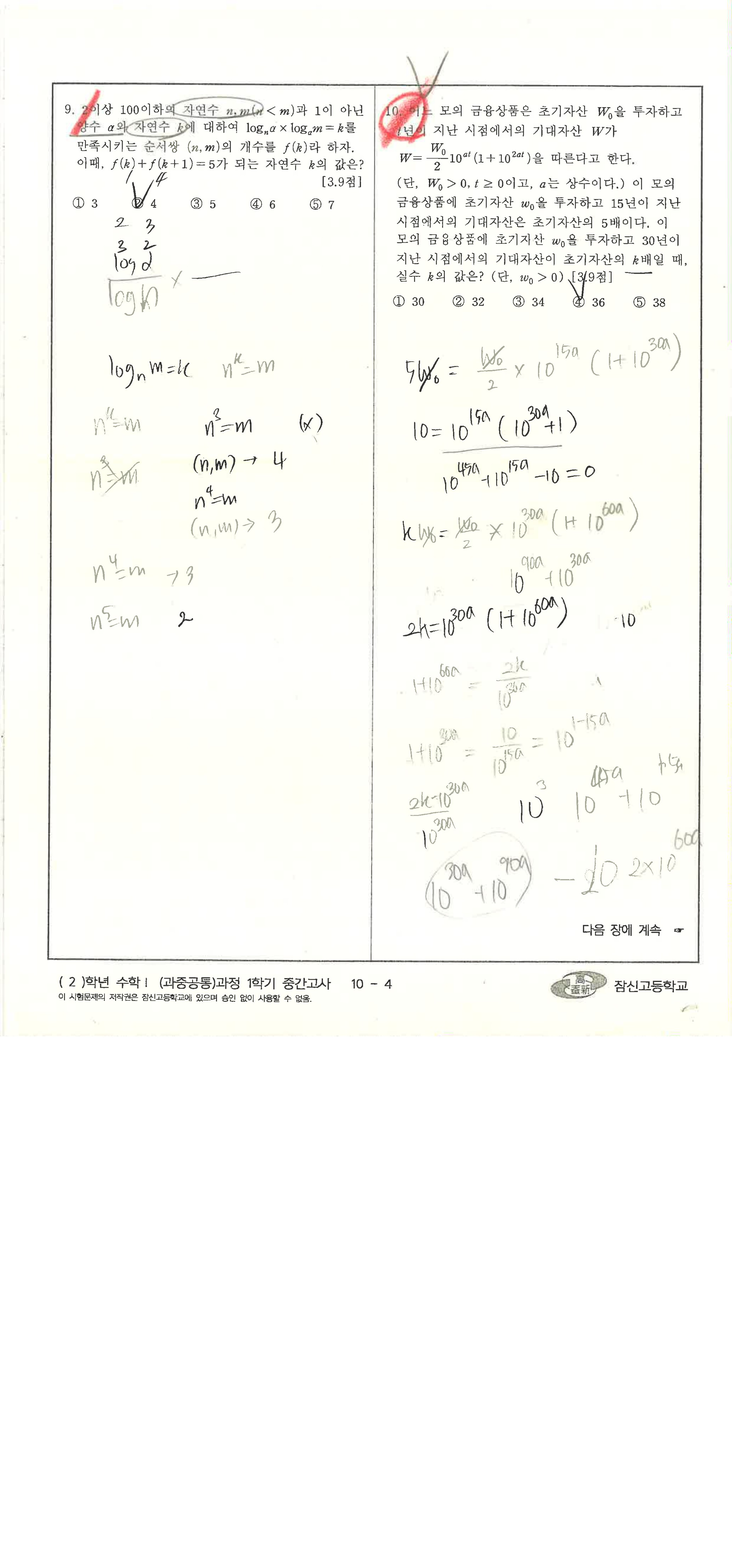problem: (379, 99, 694, 317), (62, 89, 367, 219)
